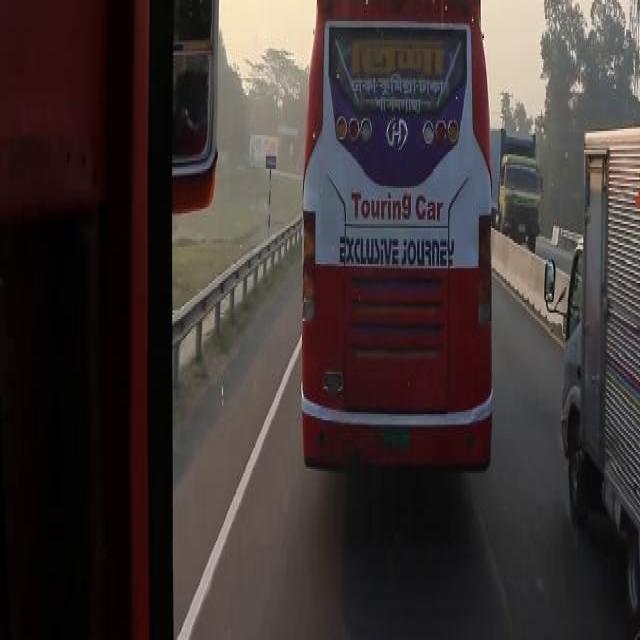11: (544, 126, 638, 603)
18: (489, 116, 538, 241)
Truck: (300, 3, 492, 464)
